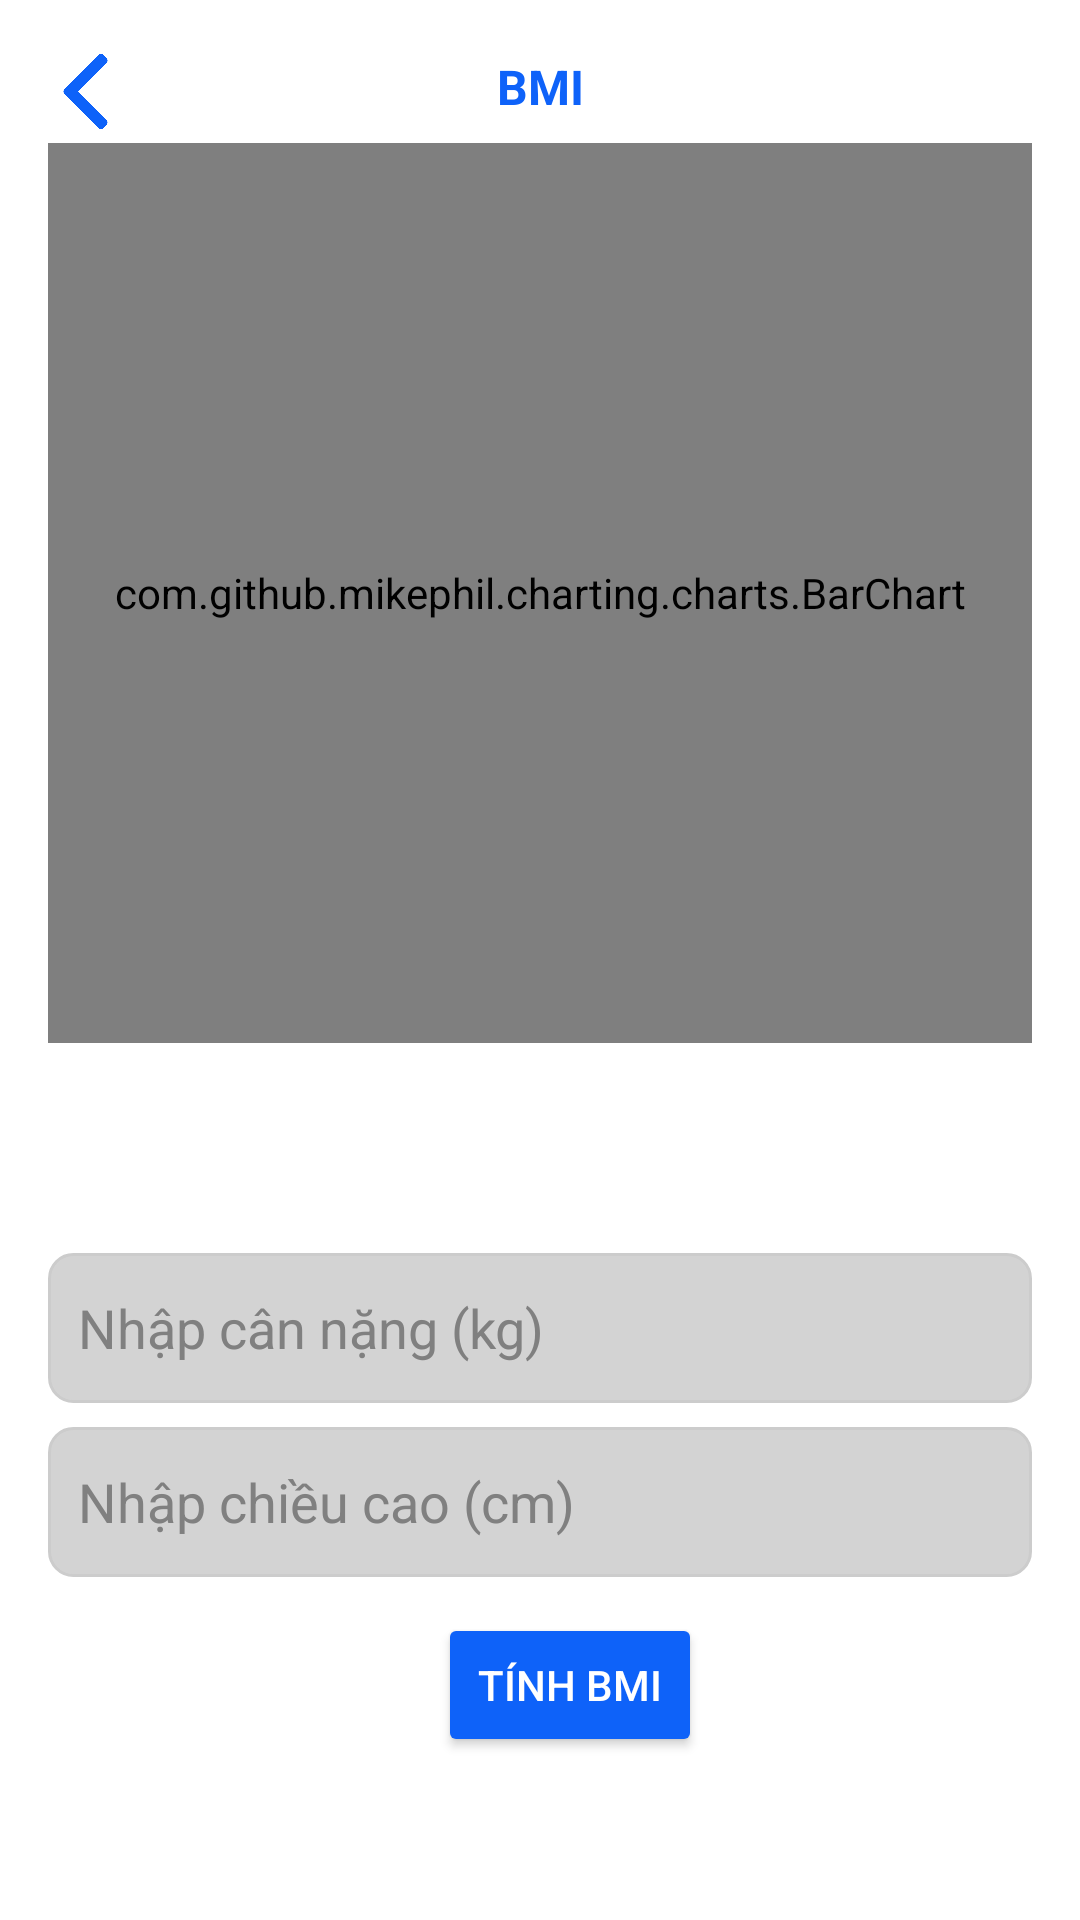

Named icons in this screenshot (1080px x 1920px) and their centers, point (x, y):
left arrow: point (85, 91)
